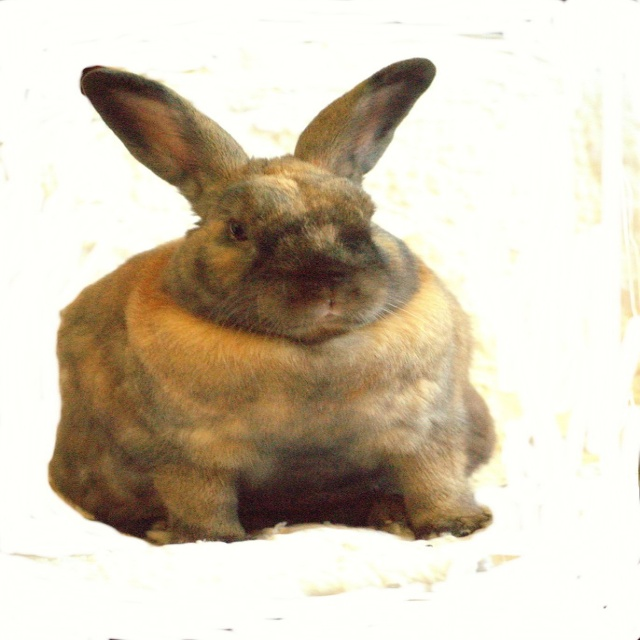Rabbit: (29, 57, 499, 547)
